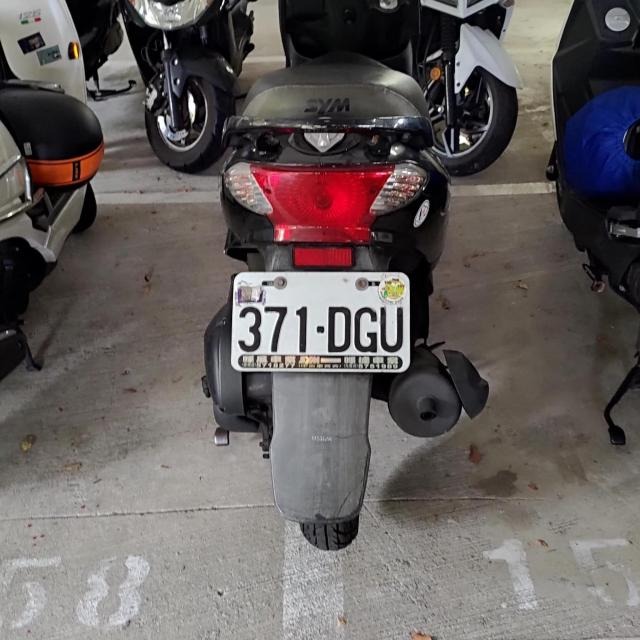W: (232, 270, 409, 374)
